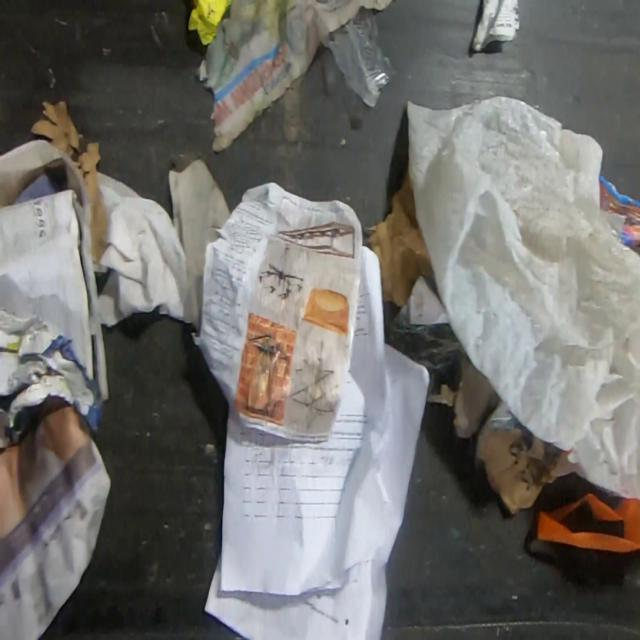rigid_plastic: (320, 7, 398, 109)
soft_plastic: (403, 93, 640, 503)
